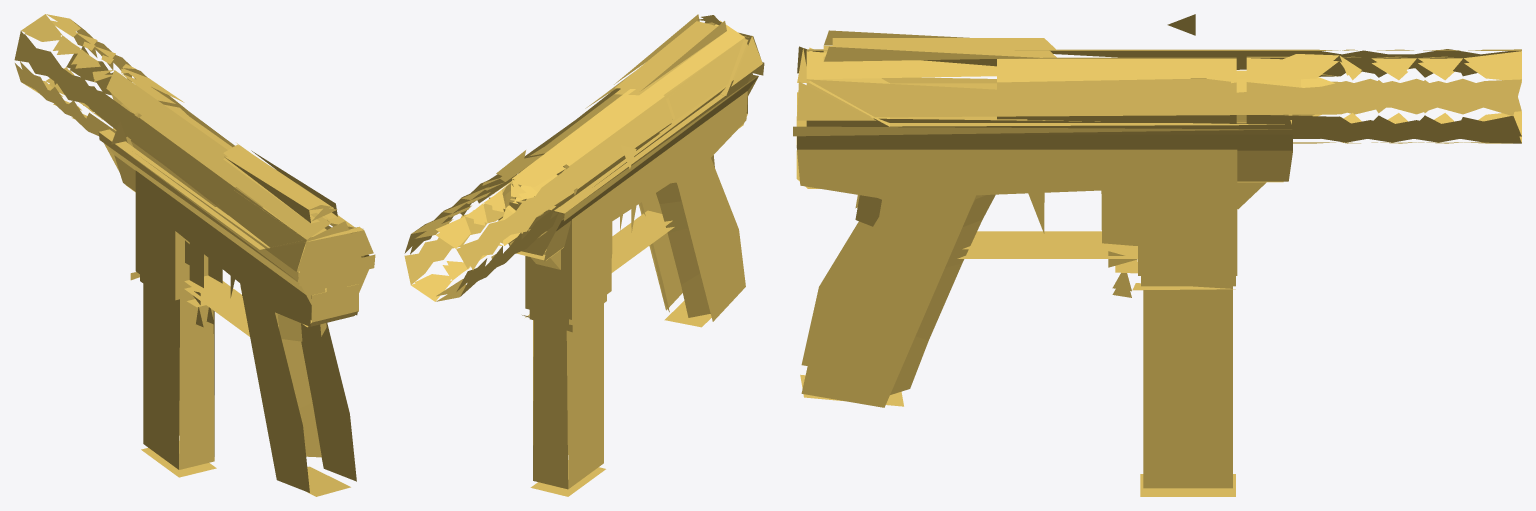
File: charm_mst_pistol_14.glb
3 renders of one model, left to right at view 1: azimuth 30°, elevation 25°; view 2: azimuth 150°, elevation 25°; view 3: azimuth 270°, elevation 25°, orthographic. The views are drawn at different scales.
Visible parts, largest first — view 1: p0_paint; view 2: p0_paint; view 3: p0_paint.
Part boxes in pixels (<box>): p0_paint: <box>14,14,375,496</box>; p0_paint: <box>404,14,764,496</box>; p0_paint: <box>793,14,1521,496</box>.
Size of the model in its own units: 0.0612 by 0.2022 by 0.2981.
